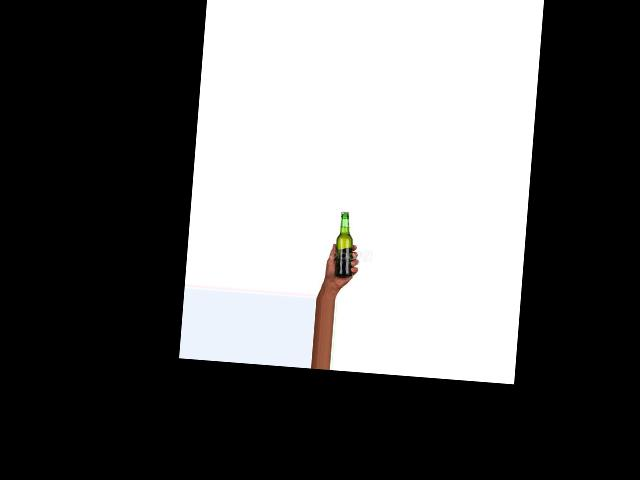beer: (333, 211, 355, 277)
